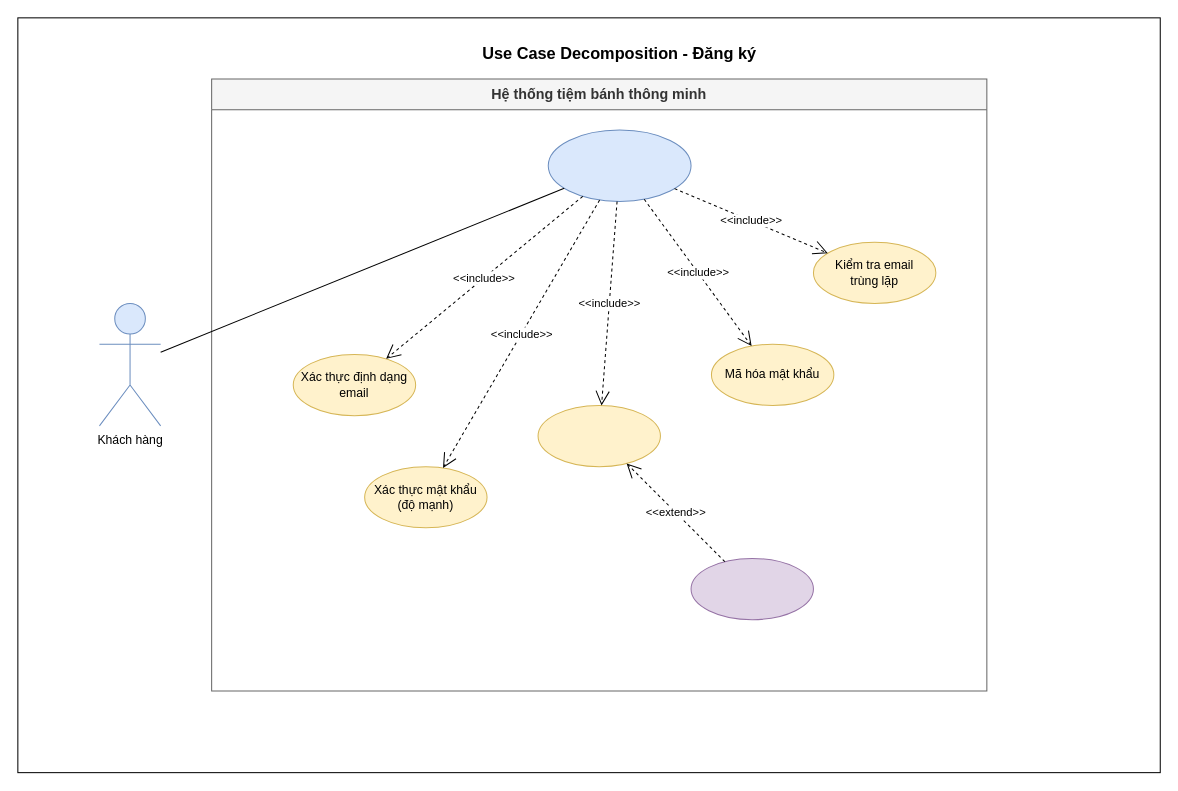
The diagram is 1178 pixels wide and 791 high, and some of its shapes have lost their labels. Each missing label, with the centre of its shape:
"Gửi email chào mừng" goes at point (751, 588).
"Tạo tài khoản trong DB" goes at point (598, 435).
"Đăng ký" goes at point (619, 165).
